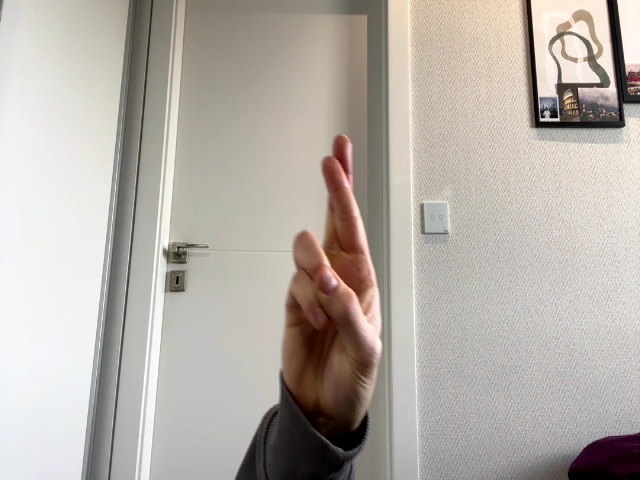R: (282, 135, 381, 407)
